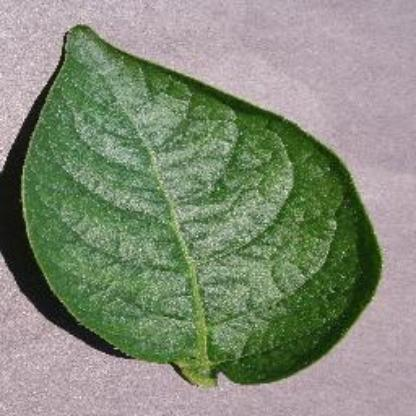Healthy-plant: (25, 21, 392, 391)
